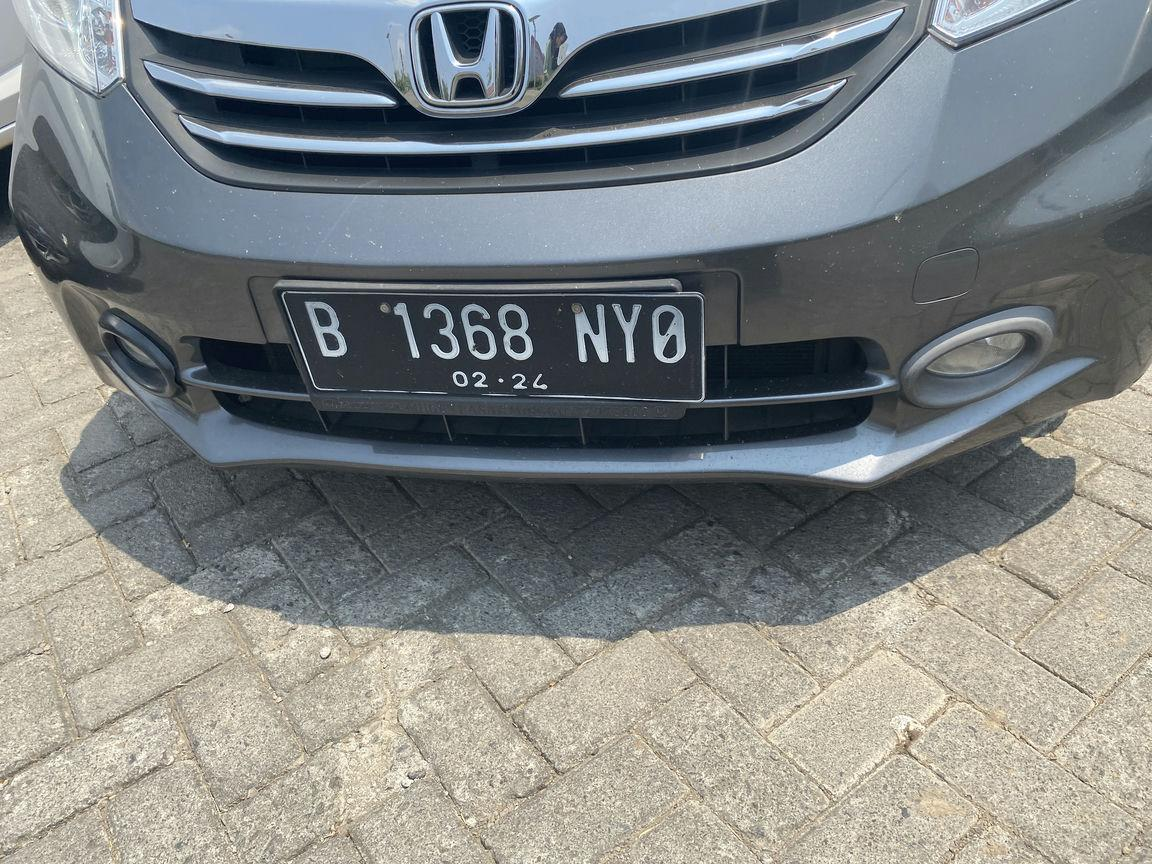plat: (292, 294, 701, 400)
